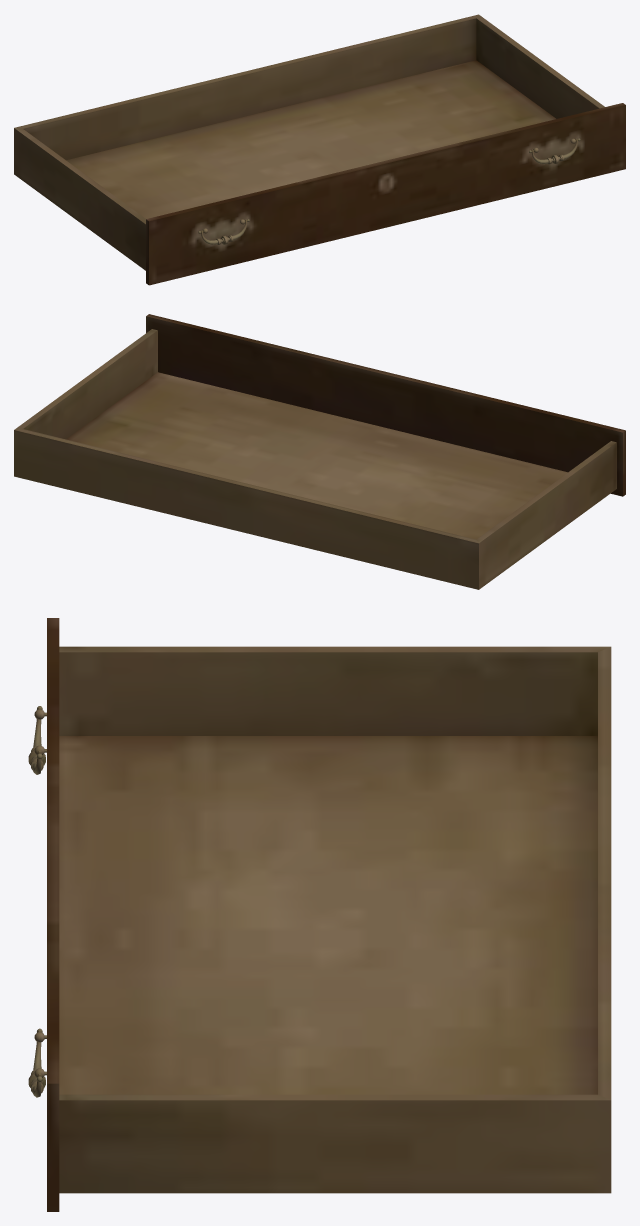
File: SM_commode_drawer_01_a68d2f.glb
3 views of the same model, one above another, from view 1: azimuth 30°, elevation 25°; view 2: azimuth 150°, elevation 25°; view 3: azimuth 270°, elevation 25° (orthographic). The views are drawn at different scales.
Bounding box in the file's own units: 0.8872 × 0.1139 × 0.4696.
1 material, 1 textured.
